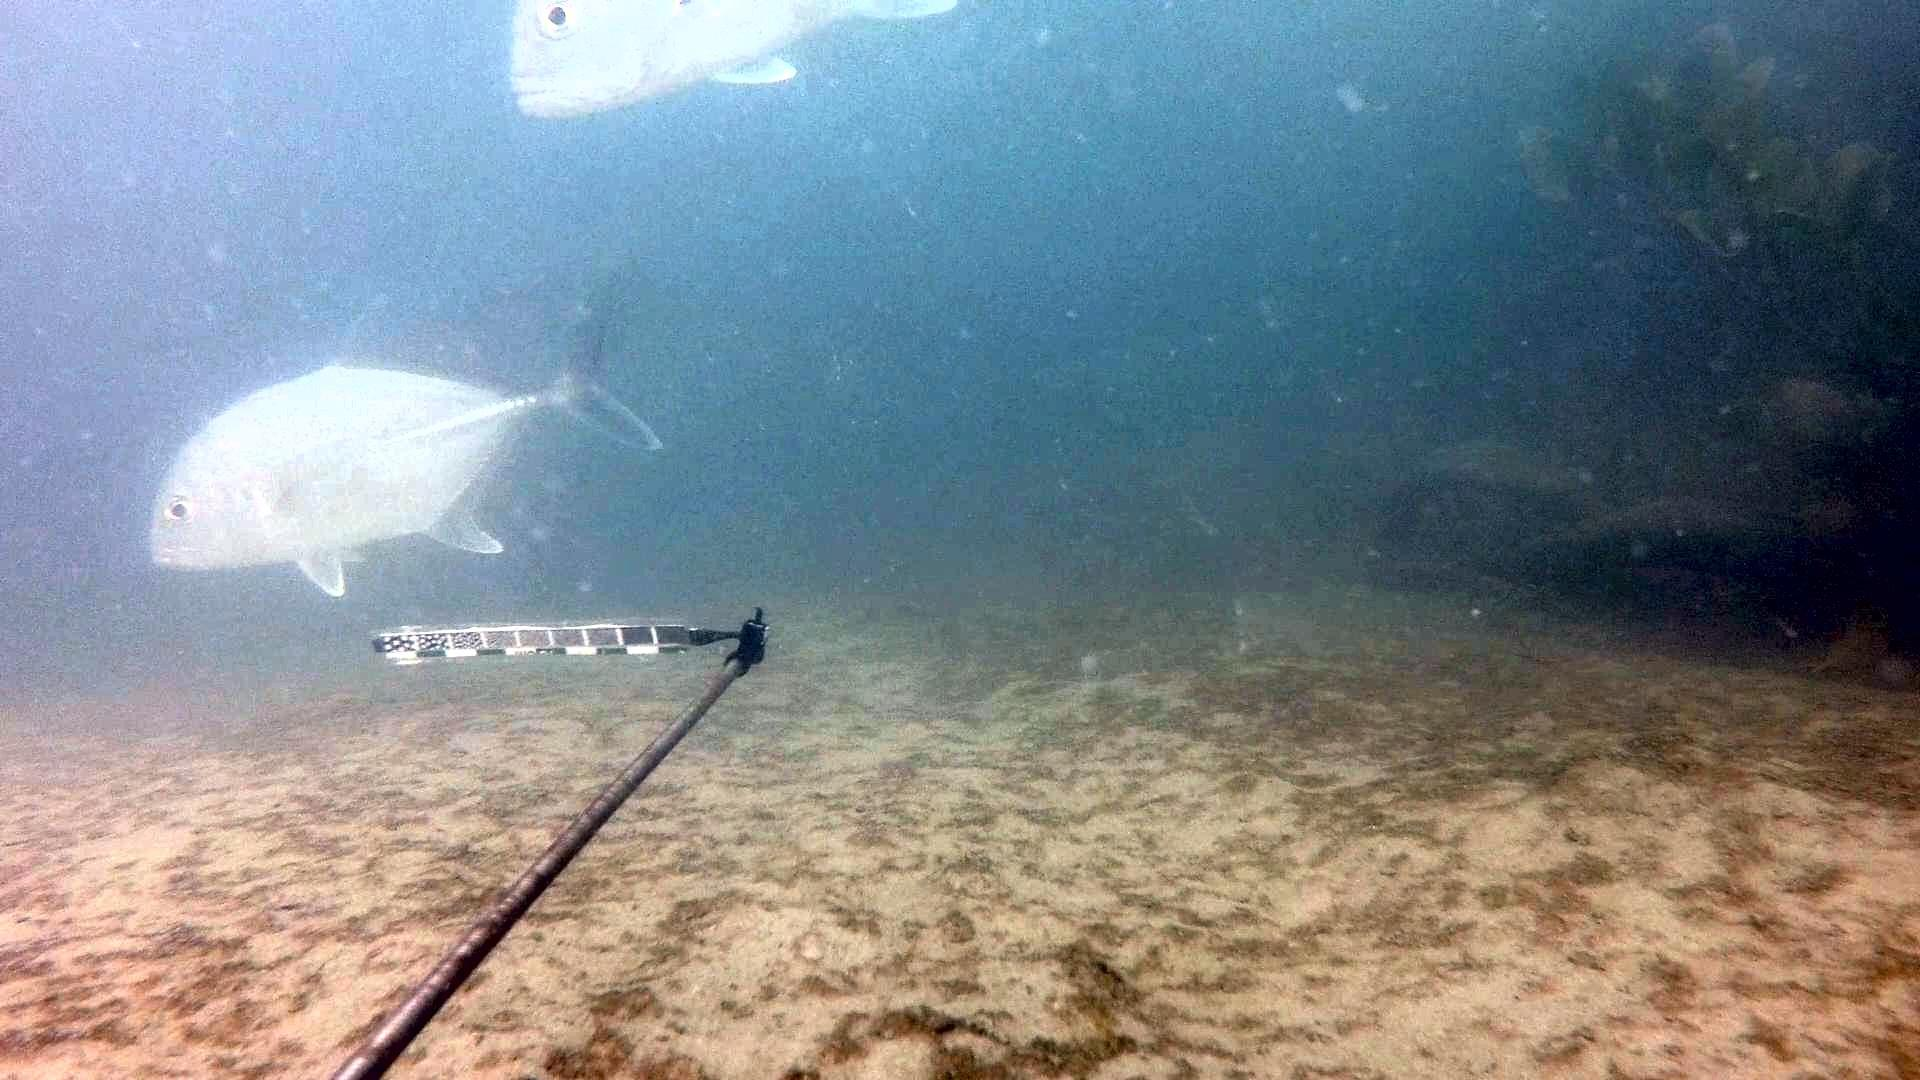caranx: (133, 248, 688, 609), (492, 0, 961, 129)
